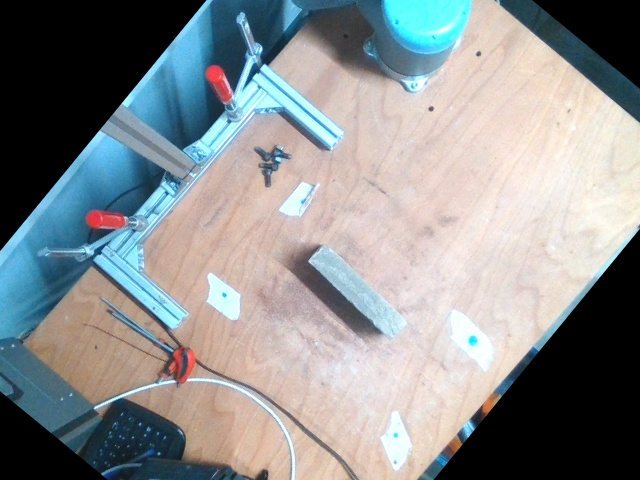brick-side: (309, 245, 406, 340)
